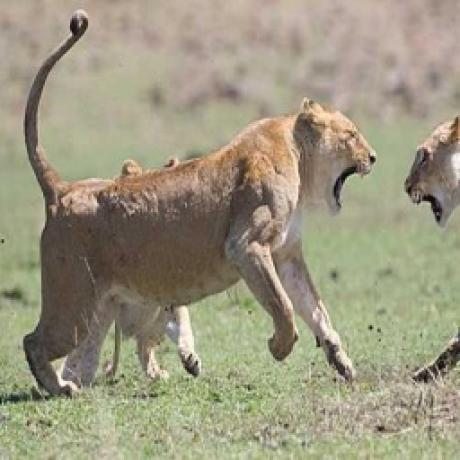Lion: (18, 9, 382, 400), (400, 110, 460, 230)
